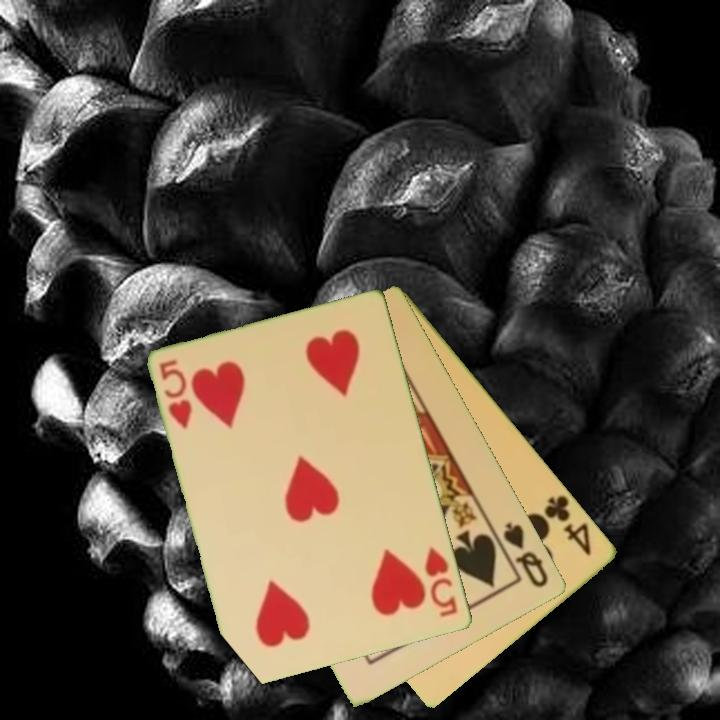4c: (541, 491, 595, 559)
5h: (421, 543, 461, 621), (156, 356, 196, 432)
Qs: (500, 519, 552, 591)
